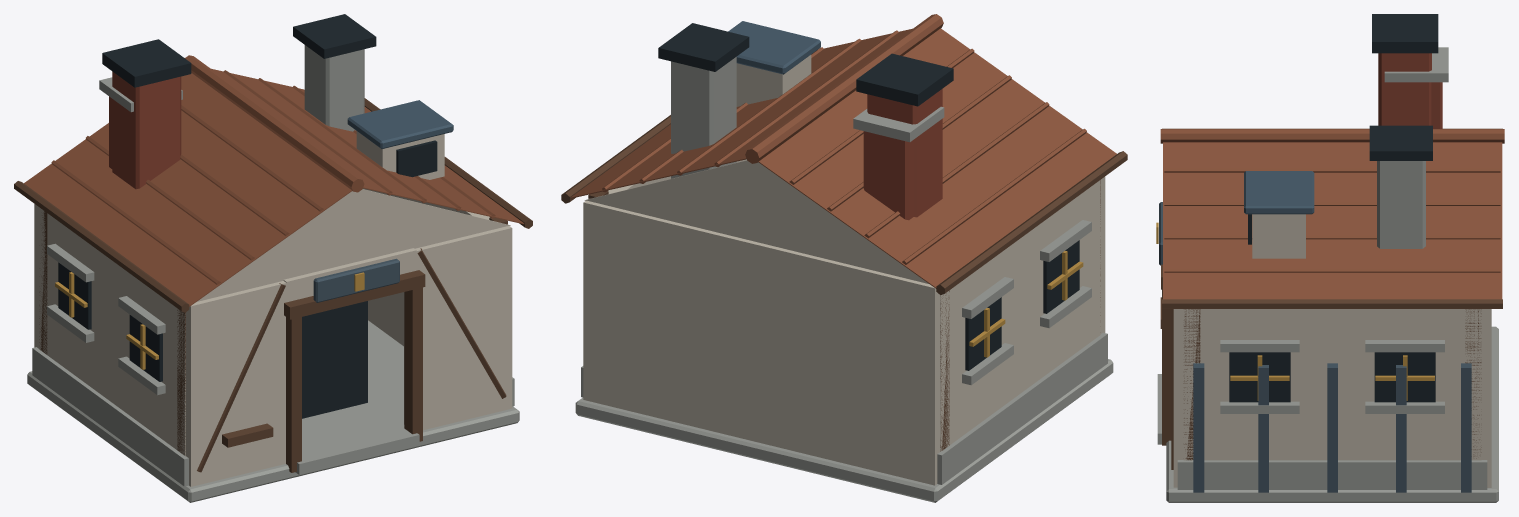
The model's file is iron-march.glb.
3 renders of one model, left to right at view 1: azimuth 30°, elevation 25°; view 2: azimuth 150°, elevation 25°; view 3: azimuth 270°, elevation 25°, orthographic. The views are drawn at different scales.
Parts seen in each view (by area): view 1: house_cottage, house_town, house_foundry; view 2: house_cottage, house_town, house_foundry; view 3: house_cottage, house_foundry, house_town.
Part boxes in pixels (bbox=[...]): house_cottage: bbox=[14, 55, 532, 502]; house_town: bbox=[293, 14, 453, 179]; house_foundry: bbox=[102, 39, 399, 302]; house_cottage: bbox=[561, 14, 1127, 502]; house_town: bbox=[658, 21, 820, 178]; house_foundry: bbox=[856, 53, 953, 217]; house_cottage: bbox=[1157, 47, 1504, 502]; house_foundry: bbox=[1156, 14, 1471, 492]; house_town: bbox=[1244, 125, 1432, 258].
Bounding box in the file's own units: 5.4 × 5.53 × 4.56.
